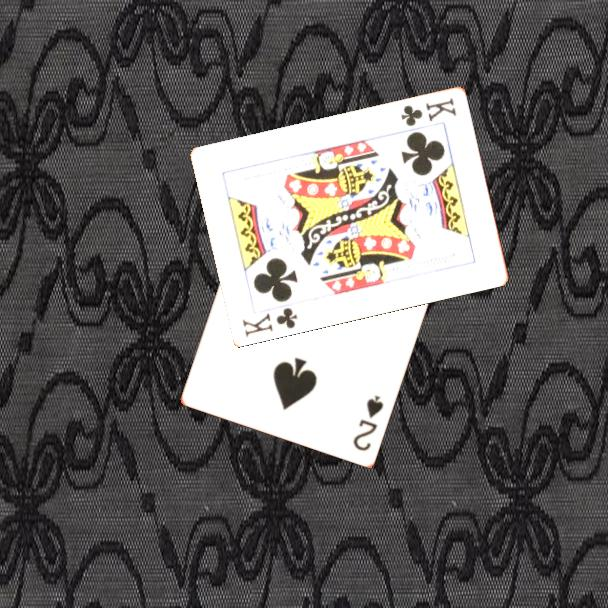c13: (398, 93, 459, 129), (239, 304, 300, 339)
s02: (349, 391, 386, 454)
